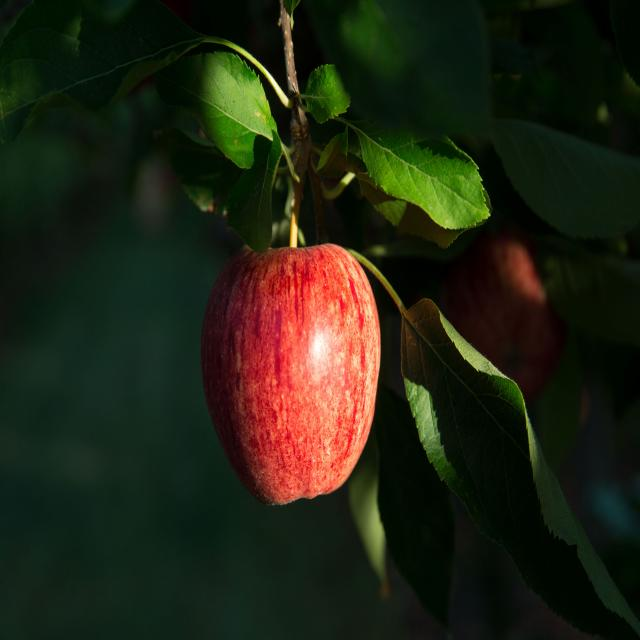Apple: (198, 240, 386, 509)
